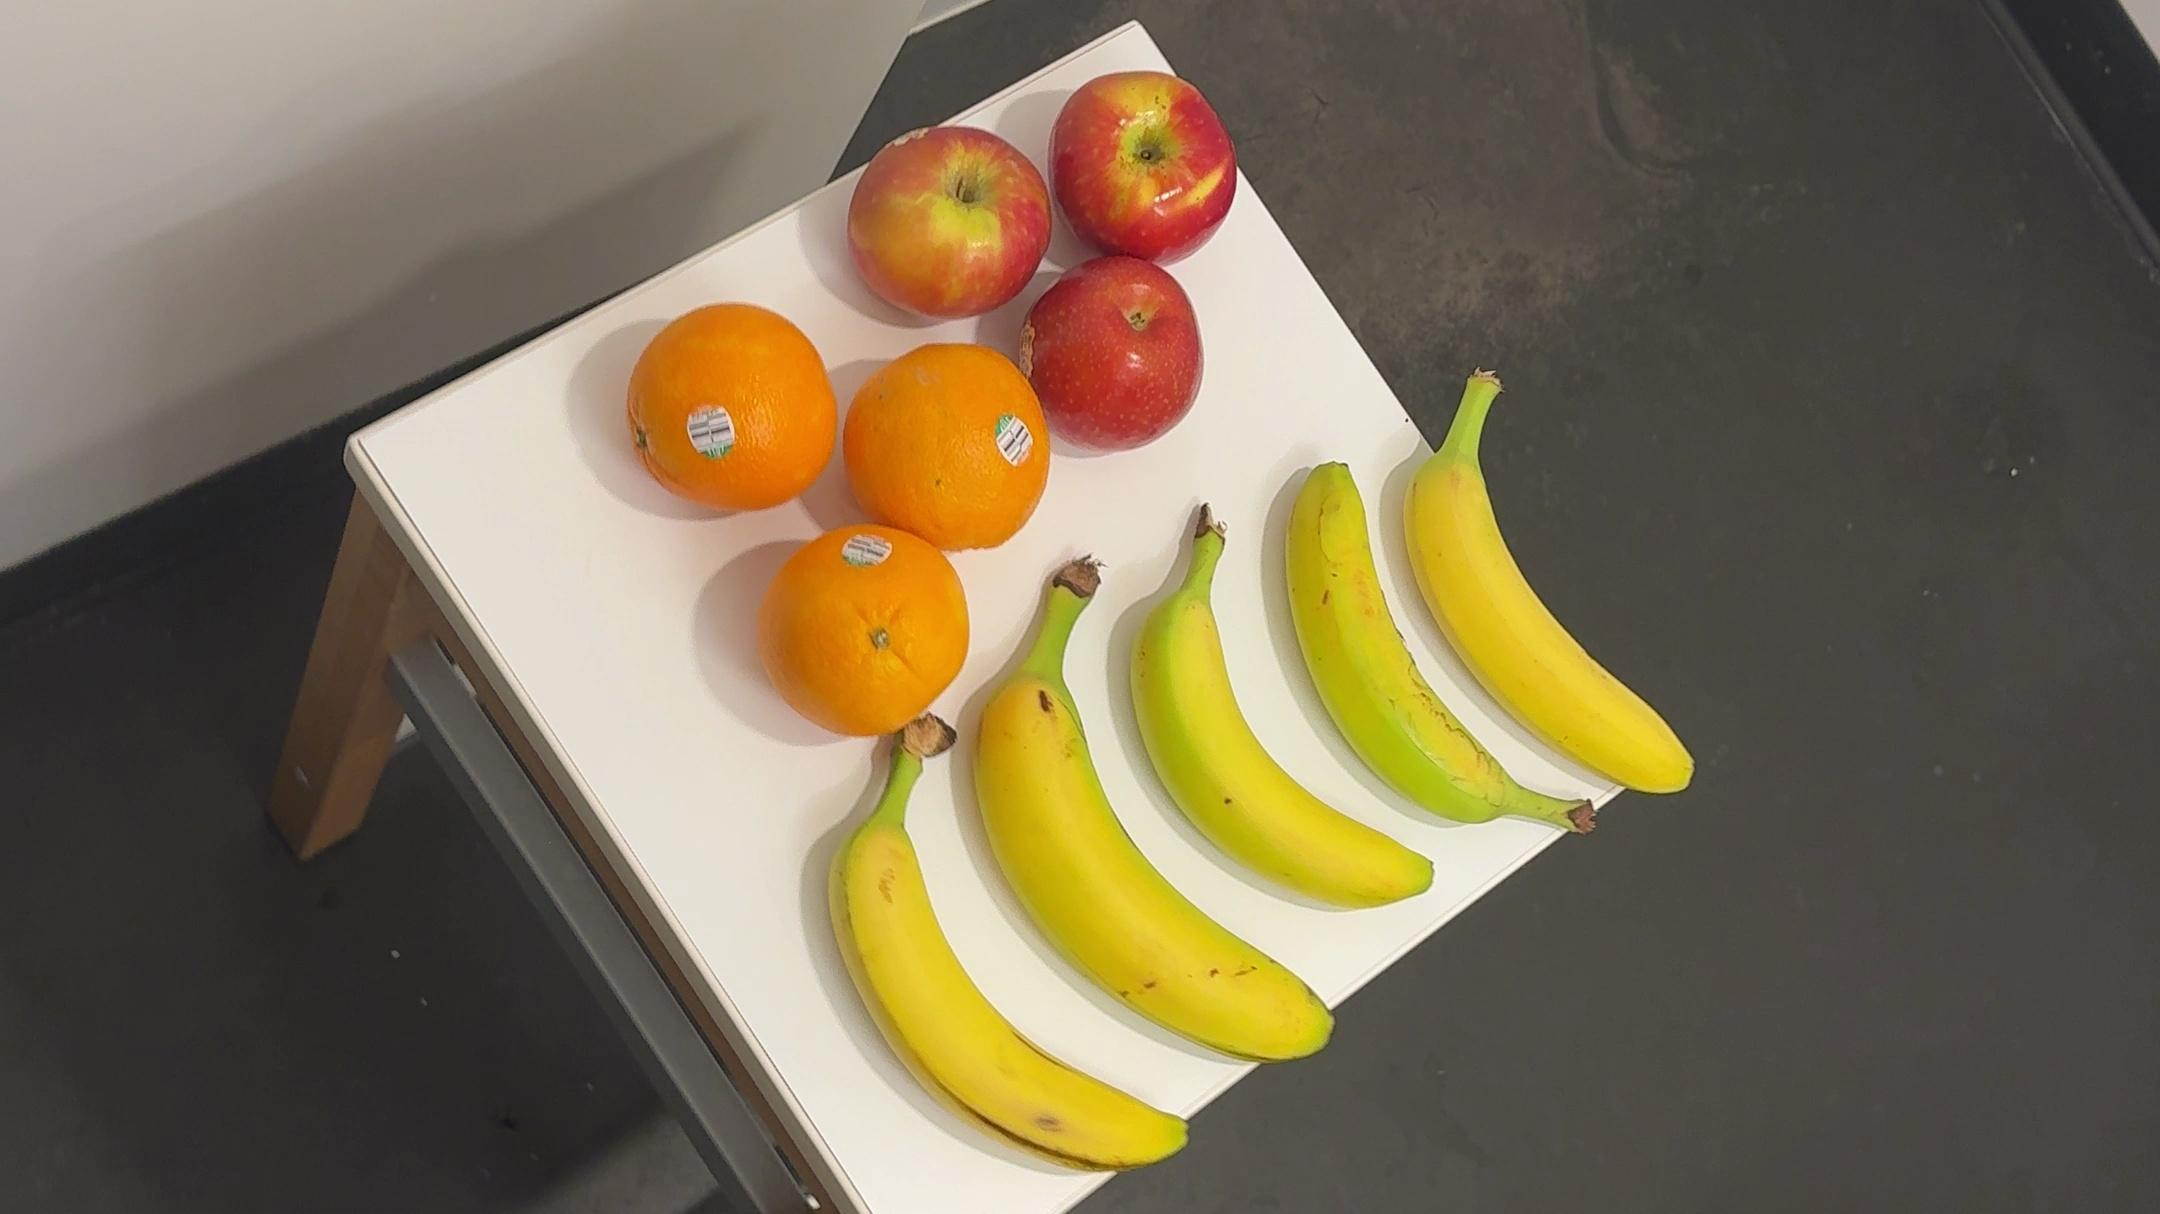apple: (840, 113, 1047, 327), (1049, 61, 1243, 267), (1025, 255, 1215, 456)
banana: (955, 561, 1337, 1069), (800, 727, 1196, 1175), (1374, 355, 1700, 812), (1105, 502, 1435, 920), (1257, 451, 1598, 852)
orange: (622, 289, 828, 528), (755, 522, 975, 742), (837, 332, 1050, 558)
